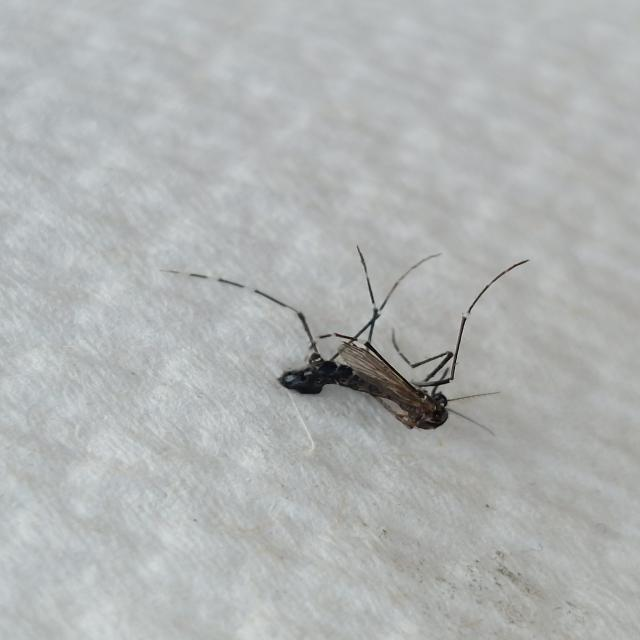albopictus: (146, 235, 536, 438)
